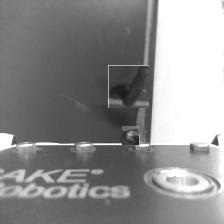Door Handle: (107, 65, 150, 108)
Lock: (121, 126, 141, 144)
